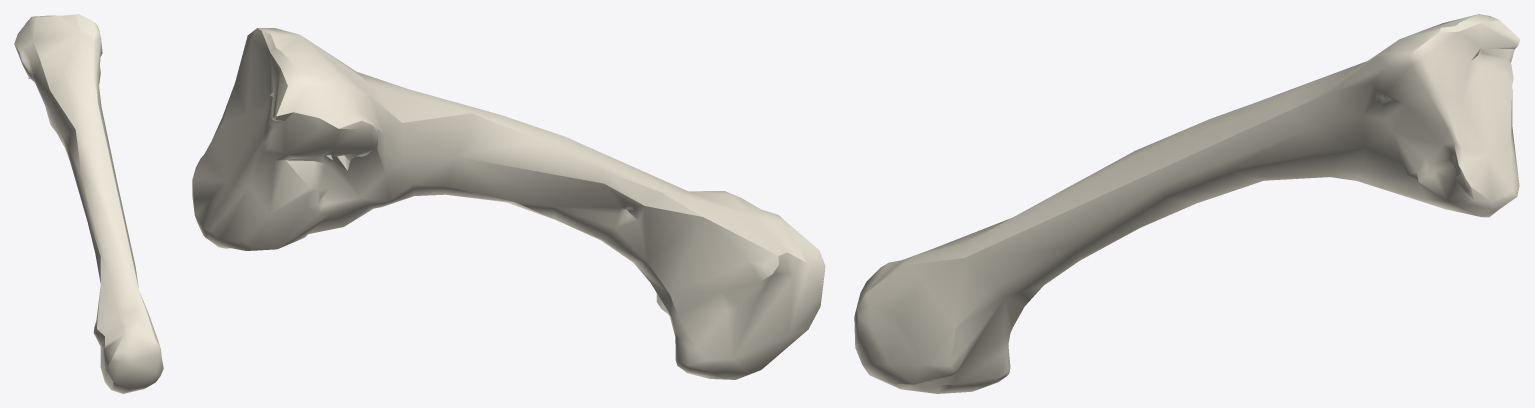
Rendered from fma24509_fj3353.glb.
3 renders of one model, left to right at view 1: azimuth 30°, elevation 25°; view 2: azimuth 150°, elevation 25°; view 3: azimuth 270°, elevation 25°, orthographic. The views are drawn at different scales.
Visible parts, largest first — view 1: FMA24509_FJ3353; view 2: FMA24509_FJ3353; view 3: FMA24509_FJ3353.
Boxes of the visible parts, left/top/right/bottom form: FMA24509_FJ3353: left=14, top=14, right=163, bottom=393; FMA24509_FJ3353: left=192, top=28, right=825, bottom=379; FMA24509_FJ3353: left=854, top=14, right=1520, bottom=393.
Size of the model in its own units: 0.0306 by 0.048 by 0.065.
